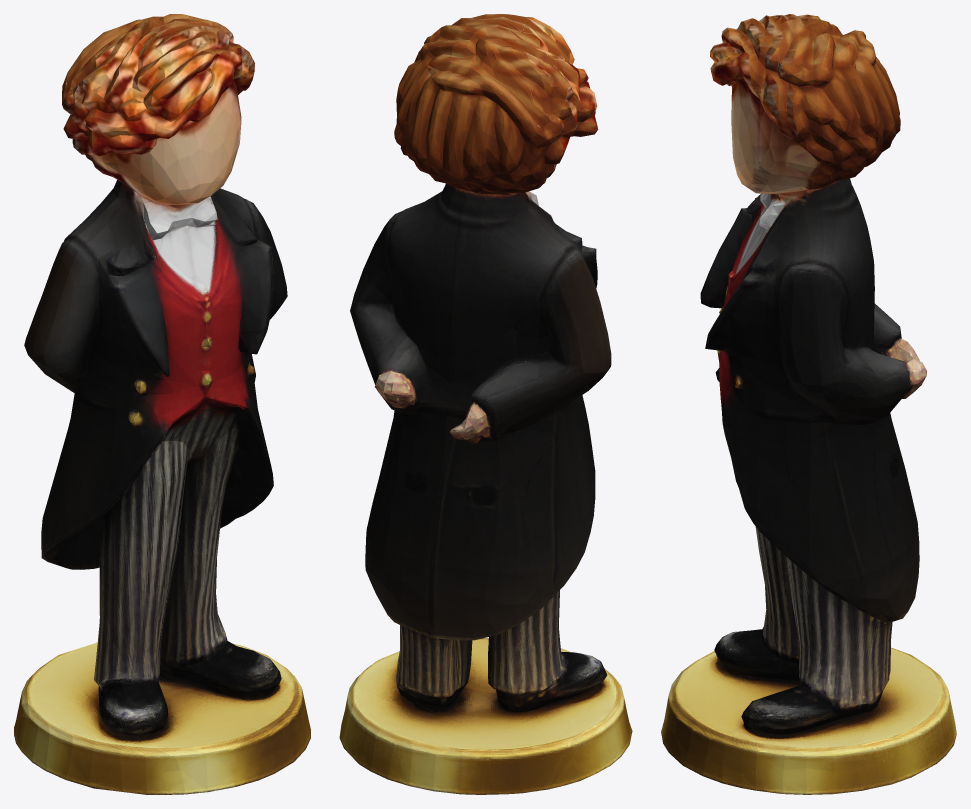
3 views of the same model, side by side, from view 1: azimuth 30°, elevation 25°; view 2: azimuth 150°, elevation 25°; view 3: azimuth 270°, elevation 25° (orthographic).
Parts seen in each view (by area): view 1: world; view 2: world; view 3: world.
Part boxes in pixels (box(x1,y1,x2,y2)): world: box(14, 14, 310, 794); world: box(339, 14, 632, 794); world: box(661, 14, 956, 794).
Bounding box in the file's own units: 0.3779 × 1 × 0.3768.
Materials: 1 (1 with a texture image).
